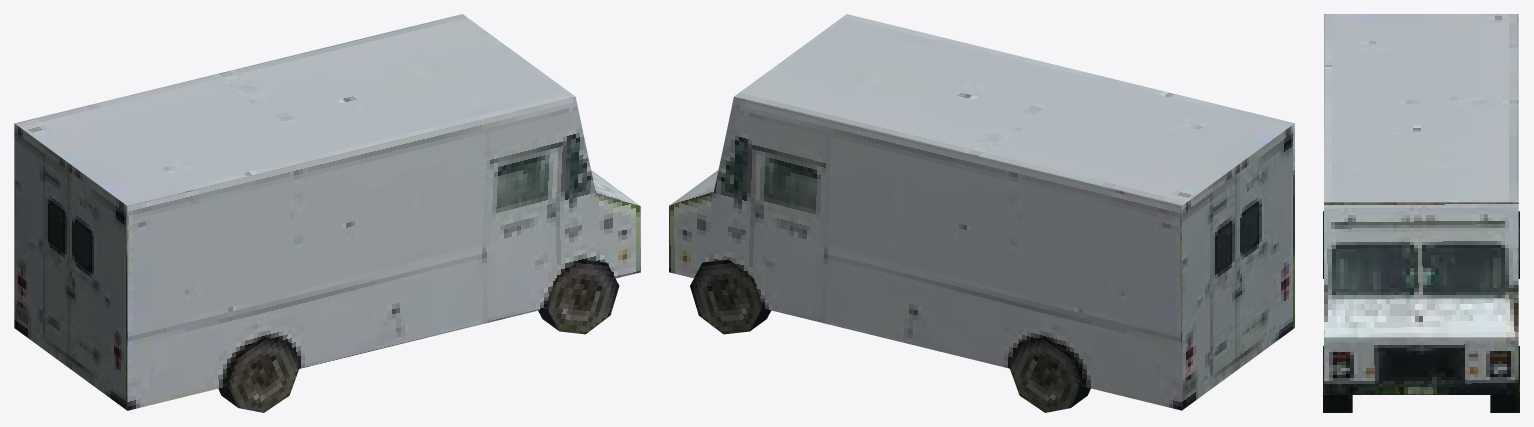
Rendered from furgoneta.glb.
The picture shows the model from 3 angles, left to right: view 1: azimuth 30°, elevation 25°; view 2: azimuth 150°, elevation 25°; view 3: azimuth 270°, elevation 25°; orthographic projection. The views are drawn at different scales.
Visible parts, largest first — view 1: Cube; view 2: Cube; view 3: Cube.
Boxes of the visible parts, <box> form: Cube: <box>14,14,640,412</box>; Cube: <box>669,14,1294,412</box>; Cube: <box>1323,14,1519,412</box>.
Bounding box in the file's own units: 7.1 × 3.17 × 2.74.
Materials: 1 (1 with a texture image).
